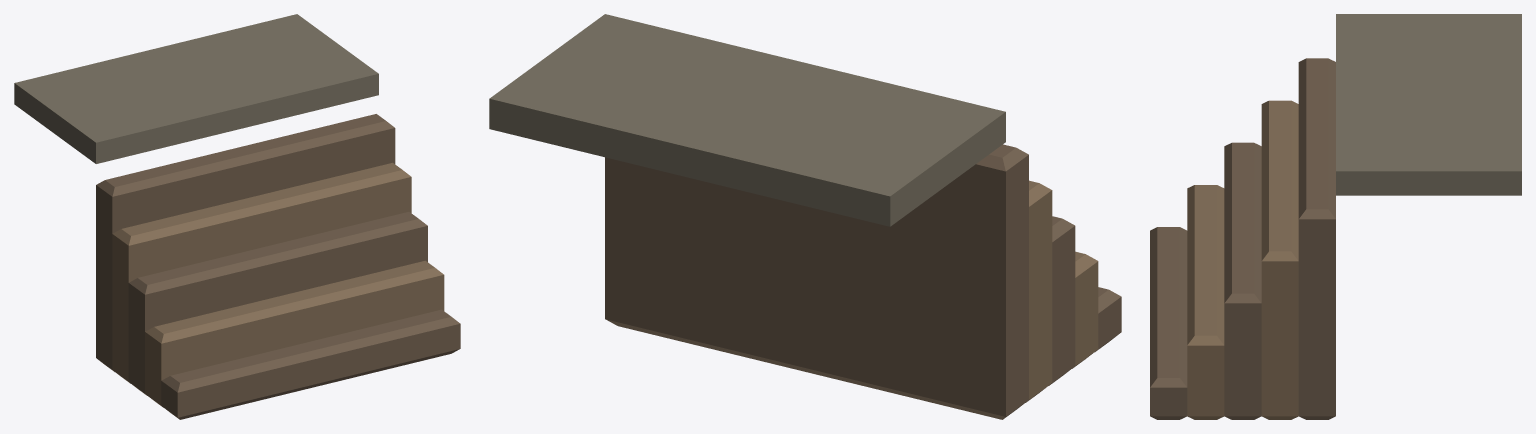
The model's file is stairs_down.fbx.
3 views of the same model, side by side, from view 1: azimuth 30°, elevation 25°; view 2: azimuth 150°, elevation 25°; view 3: azimuth 270°, elevation 25° (orthographic). The views are drawn at different scales.
Parts seen in each view (by area): view 1: stairs_down; view 2: stairs_down; view 3: stairs_down.
Part boxes in pixels (x1,y1,x2,y2): stairs_down: [14, 14, 460, 419]; stairs_down: [489, 14, 1121, 419]; stairs_down: [1150, 14, 1521, 419].
Bounding box in the file's own units: 4 × 2.99 × 4.
